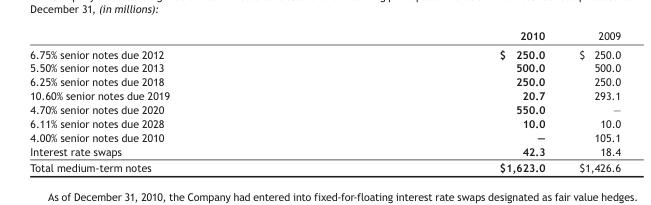table: (29, 28, 620, 173)
table column: (29, 28, 333, 173), (333, 28, 561, 173), (561, 28, 620, 173)
table column header: (29, 28, 620, 44)
table row: (29, 28, 620, 44), (29, 44, 620, 60), (29, 144, 620, 159), (29, 60, 620, 74), (29, 74, 620, 88), (29, 88, 620, 102), (29, 102, 620, 116), (29, 116, 620, 130), (29, 130, 620, 144), (29, 159, 620, 173)
